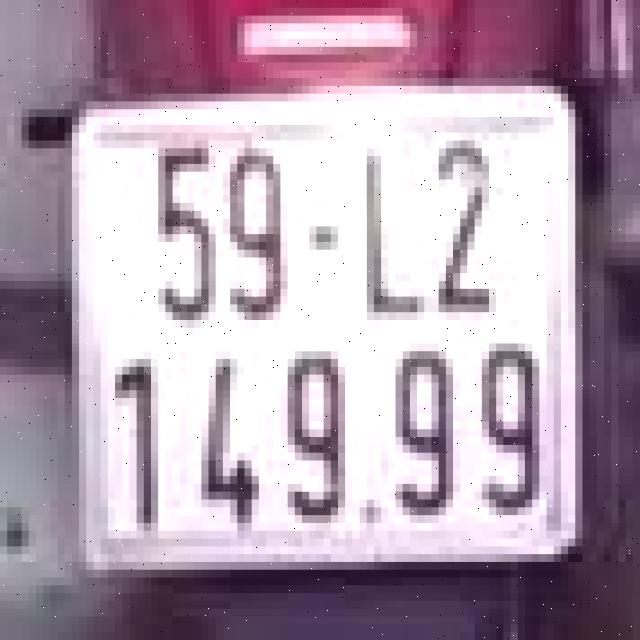1: (104, 344, 169, 546)
2: (428, 137, 507, 316)
4: (190, 340, 262, 534)
5: (151, 140, 230, 336)
9: (274, 340, 352, 542), (381, 343, 468, 523), (220, 144, 298, 324), (478, 336, 550, 523)
L: (356, 132, 428, 328)
